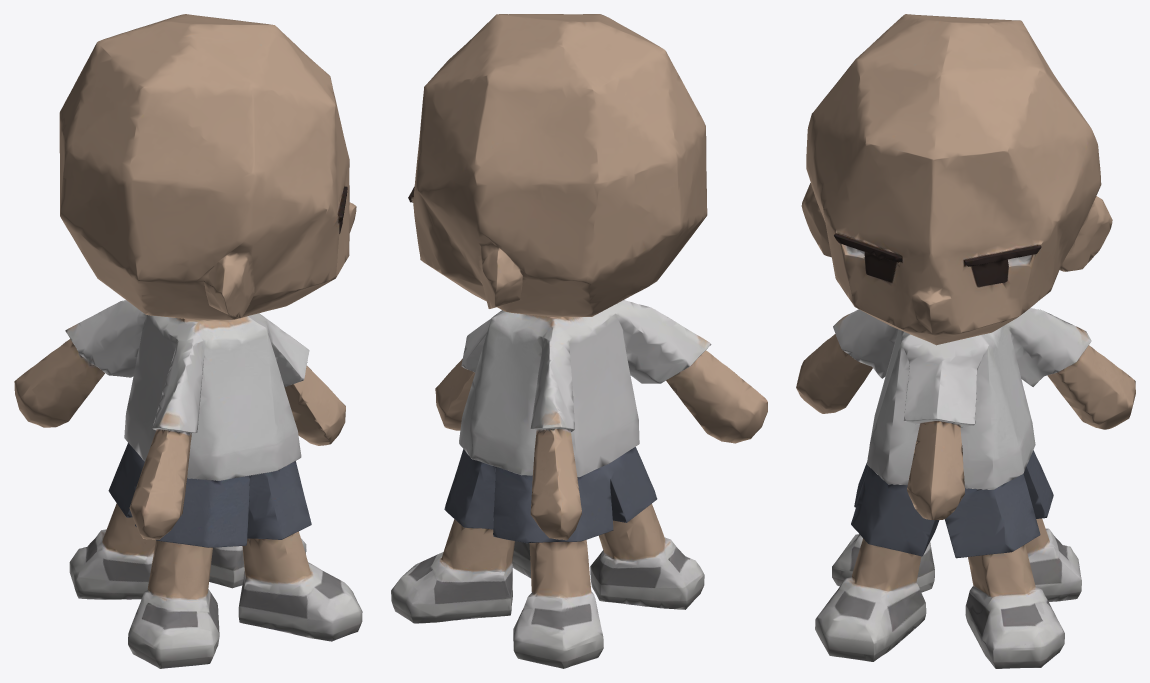
File: _dressed_4view.glb
3 renders of one model, left to right at view 1: azimuth 30°, elevation 25°; view 2: azimuth 150°, elevation 25°; view 3: azimuth 270°, elevation 25°, orthographic.
Parts seen in each view (by area): view 1: tripo_node_aabb6920-6ee5-4903-a4a6-e48401865d1b; view 2: tripo_node_aabb6920-6ee5-4903-a4a6-e48401865d1b; view 3: tripo_node_aabb6920-6ee5-4903-a4a6-e48401865d1b.
Boxes of the visible parts, <box> form: tripo_node_aabb6920-6ee5-4903-a4a6-e48401865d1b: <box>14,14,362,668</box>; tripo_node_aabb6920-6ee5-4903-a4a6-e48401865d1b: <box>391,14,767,668</box>; tripo_node_aabb6920-6ee5-4903-a4a6-e48401865d1b: <box>796,14,1135,668</box>.
Bounding box in the file's own units: 0.4939 × 1 × 0.5277.
Materials: 1 (1 with a texture image).
